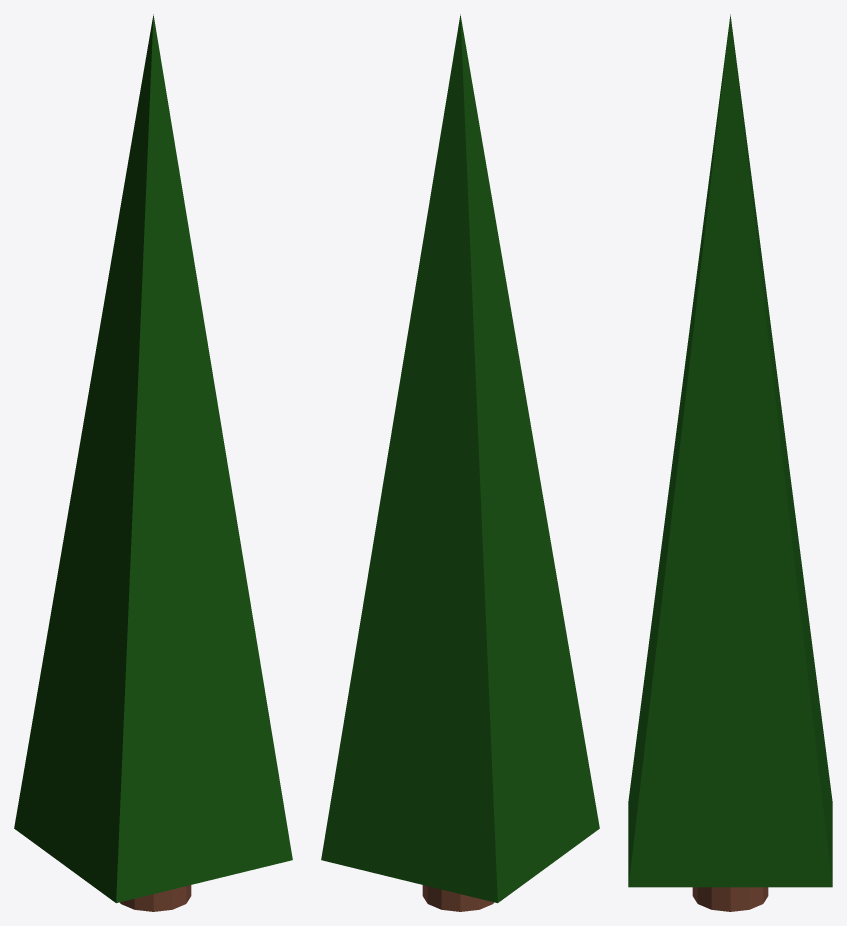
The model's file is Tree_19_autumn_vc.fbx.
3 renders of one model, left to right at view 1: azimuth 30°, elevation 25°; view 2: azimuth 150°, elevation 25°; view 3: azimuth 270°, elevation 25°, orthographic.
Parts seen in each view (by area): view 1: Tree_19_autumn_vc; view 2: Tree_19_autumn_vc; view 3: Tree_19_autumn_vc.
Part boxes in pixels (box(x1,y1,x2,y2)): Tree_19_autumn_vc: box(14, 14, 292, 911); Tree_19_autumn_vc: box(321, 14, 599, 911); Tree_19_autumn_vc: box(628, 14, 832, 911).
Size of the model in its own units: 1.55 by 7.4 by 1.55.
